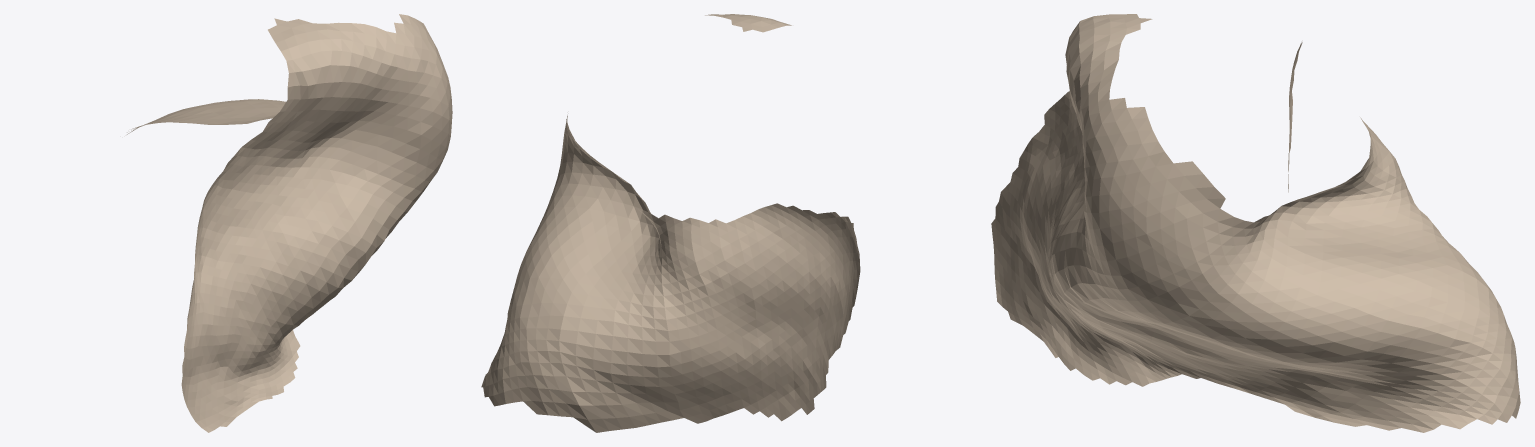
The model's file is rh_parsopercularis.glb.
3 views of the same model, side by side, from view 1: azimuth 30°, elevation 25°; view 2: azimuth 150°, elevation 25°; view 3: azimuth 270°, elevation 25° (orthographic). The views are drawn at different scales.
Visible parts, largest first — view 1: world; view 2: world; view 3: world.
Boxes of the visible parts, bbox=[...] form: world: bbox=[127, 14, 452, 432]; world: bbox=[481, 14, 860, 432]; world: bbox=[991, 14, 1520, 432].
Size of the model in its own units: 25.39 by 22.89 by 29.02.
